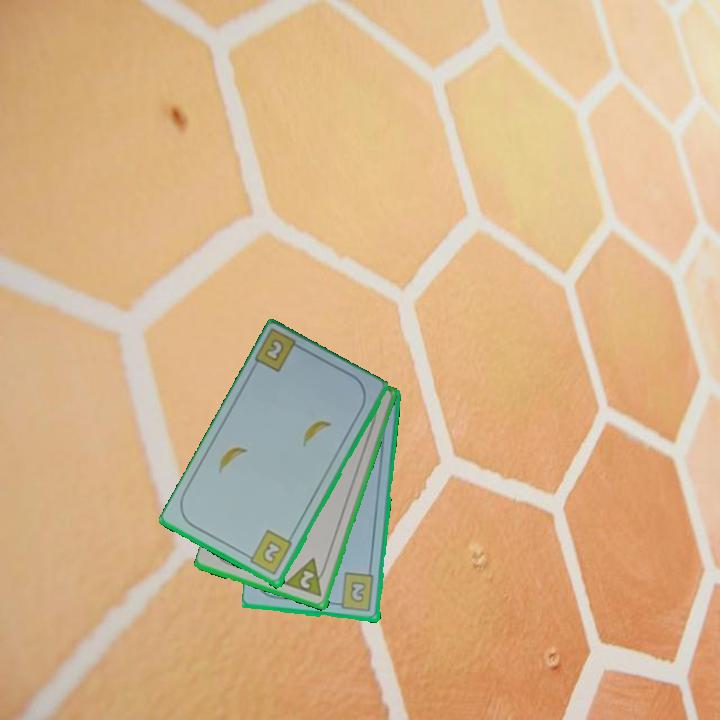2b: (242, 527, 295, 578), (332, 570, 377, 614), (261, 338, 285, 365)
2p: (296, 567, 317, 592)
